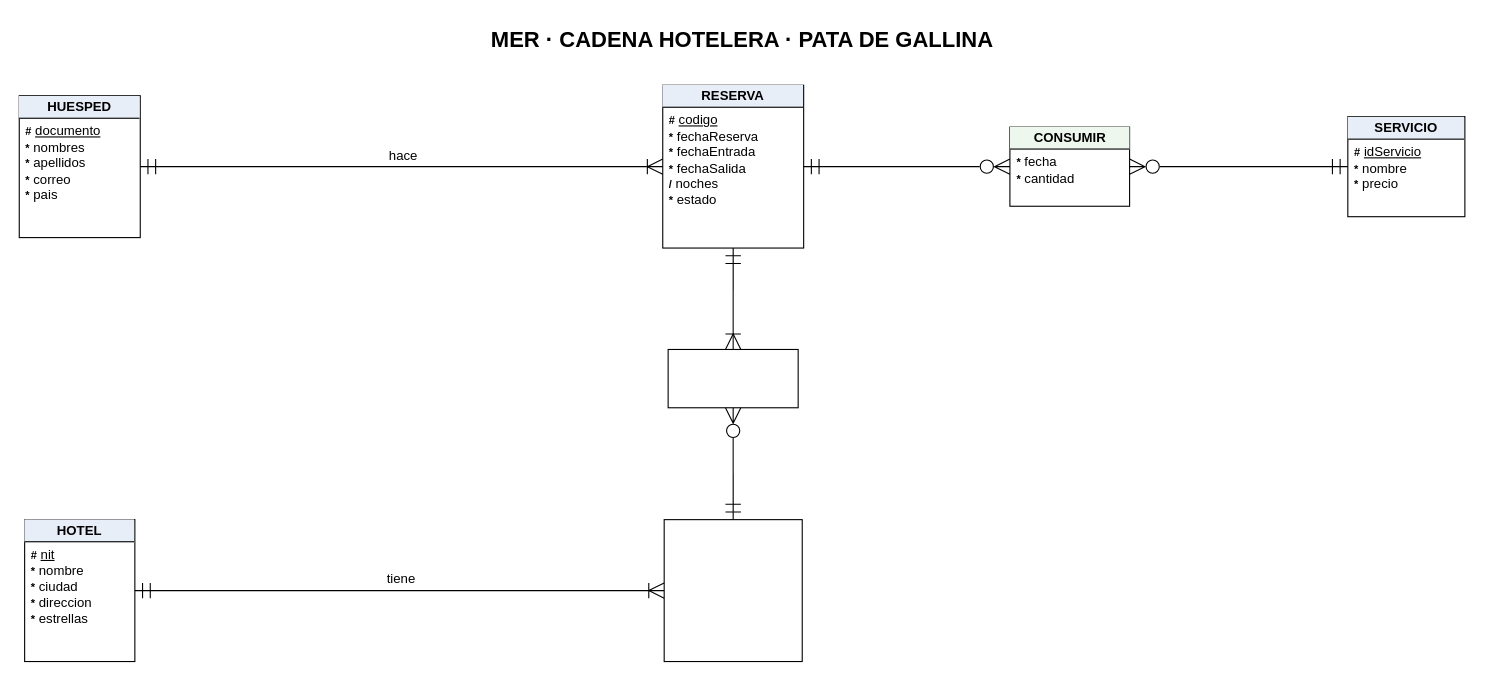
Image size: 1485x681. Some labels were removed from this diagram. Here are the shapes that lost their labels. From the top down, the centre of each, then its label:
pixel 732 378: ALOJAR * tarifaNoche
pixel 732 590: HABITACION # idHabitacion * numero * piso * capacidad * tarifaBase
